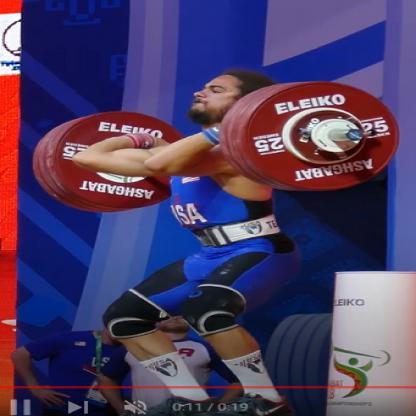Barbell: (218, 77, 406, 197)
